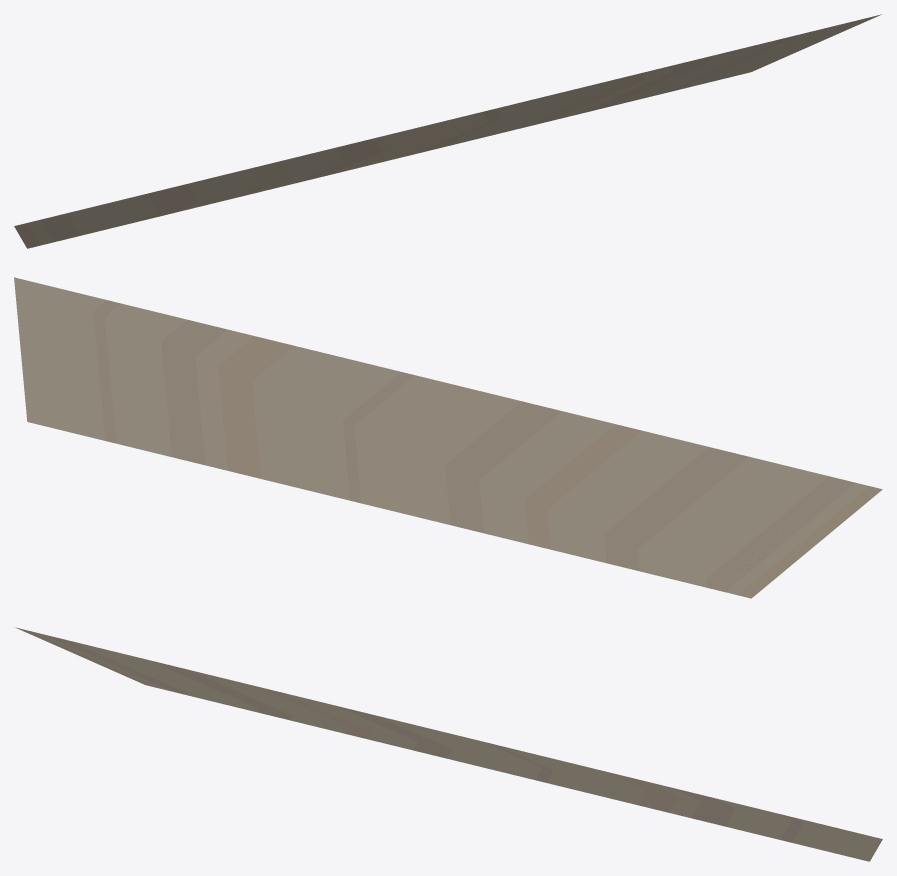
The model's file is kd_stage_135ded_4_41_bounded_piece_0.glb.
3 views of the same model, one above another, from view 1: azimuth 30°, elevation 25°; view 2: azimuth 150°, elevation 25°; view 3: azimuth 330°, elevation 25° (orthographic).
Visible parts, largest first — view 1: kd_stage_135ded_4_41_bounded_piece_0; view 2: kd_stage_135ded_4_41_bounded_piece_0; view 3: kd_stage_135ded_4_41_bounded_piece_0.
Part boxes in pixels (box(x1,y1,x2,y2)): kd_stage_135ded_4_41_bounded_piece_0: box(14, 14, 881, 248); kd_stage_135ded_4_41_bounded_piece_0: box(14, 277, 882, 598); kd_stage_135ded_4_41_bounded_piece_0: box(15, 627, 882, 861).
Bounding box in the file's own units: 0.24 × 0.0221 × 0.0283.
1 material, 1 textured.
